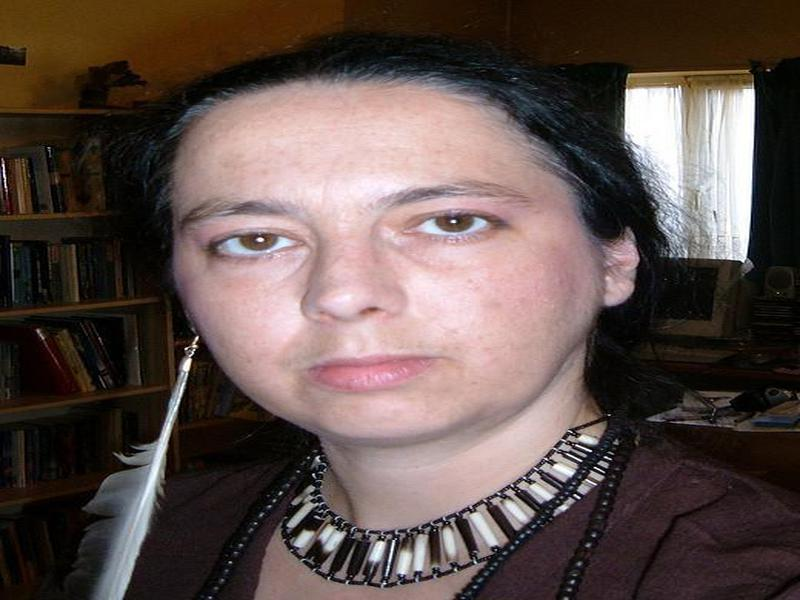person: (113, 51, 788, 600)
